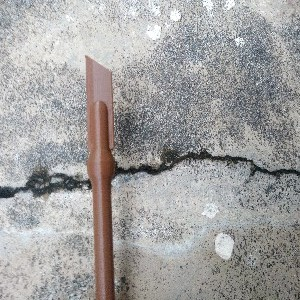cutter: (84, 53, 116, 300)
